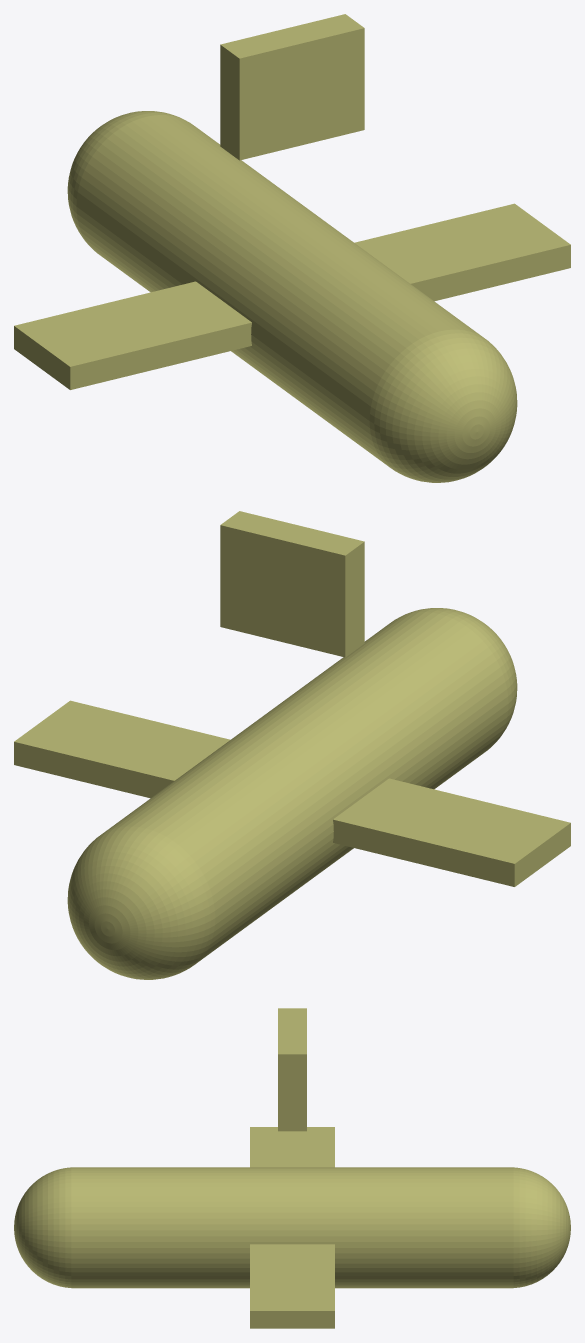
Rendered from nature_161.glb.
3 views of the same model, one above another, from view 1: azimuth 30°, elevation 25°; view 2: azimuth 150°, elevation 25°; view 3: azimuth 270°, elevation 25° (orthographic). The views are drawn at different scales.
Visible parts, largest first — view 1: world; view 2: world; view 3: world.
Boxes of the visible parts, x1=… form: world: x1=14, y1=14, x2=570, y2=482; world: x1=14, y1=511, x2=570, y2=979; world: x1=14, y1=1008, x2=570, y2=1328.
Size of the model in its own units: 1.8 by 1.14 by 2.3.
